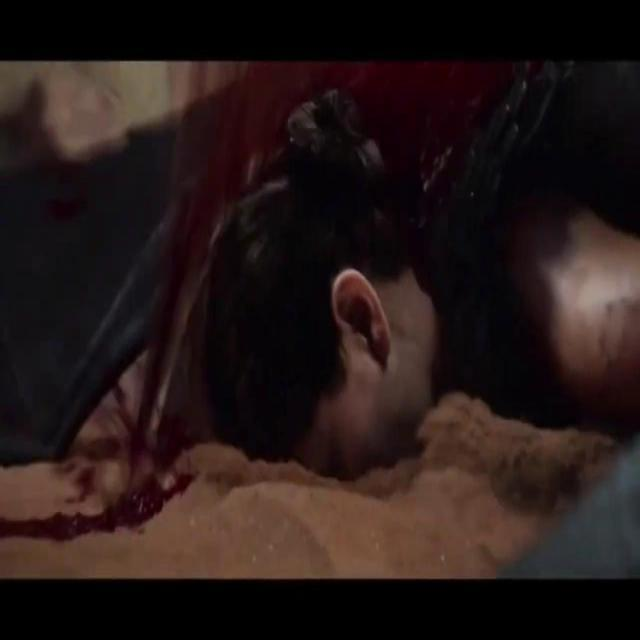flood: (158, 48, 523, 236), (2, 469, 188, 554)
